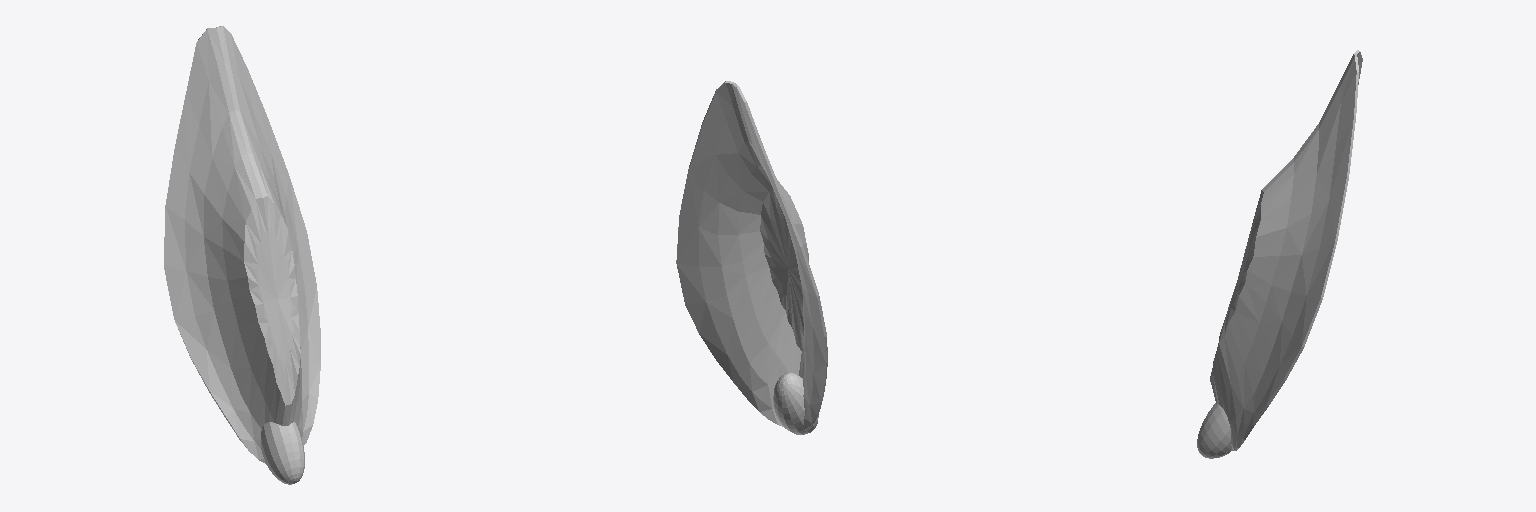
The model's file is Vaglipz.obj.
The picture shows the model from 3 angles: view 1: azimuth 30°, elevation 25°; view 2: azimuth 150°, elevation 25°; view 3: azimuth 270°, elevation 25°; orthographic projection.
Visible parts, largest first — view 1: vag_base.001_Mesh1_Component_4_1_Component_6_1_Model.006; view 2: vag_base.001_Mesh1_Component_4_1_Component_6_1_Model.006; view 3: vag_base.001_Mesh1_Component_4_1_Component_6_1_Model.006.
Part boxes in pixels (x1,y1,x2,y2): vag_base.001_Mesh1_Component_4_1_Component_6_1_Model.006: (164,26,320,484); vag_base.001_Mesh1_Component_4_1_Component_6_1_Model.006: (676,81,827,434); vag_base.001_Mesh1_Component_4_1_Component_6_1_Model.006: (1197,50,1362,458).
Size of the model in its own units: 3.08 by 8.24 by 3.07.